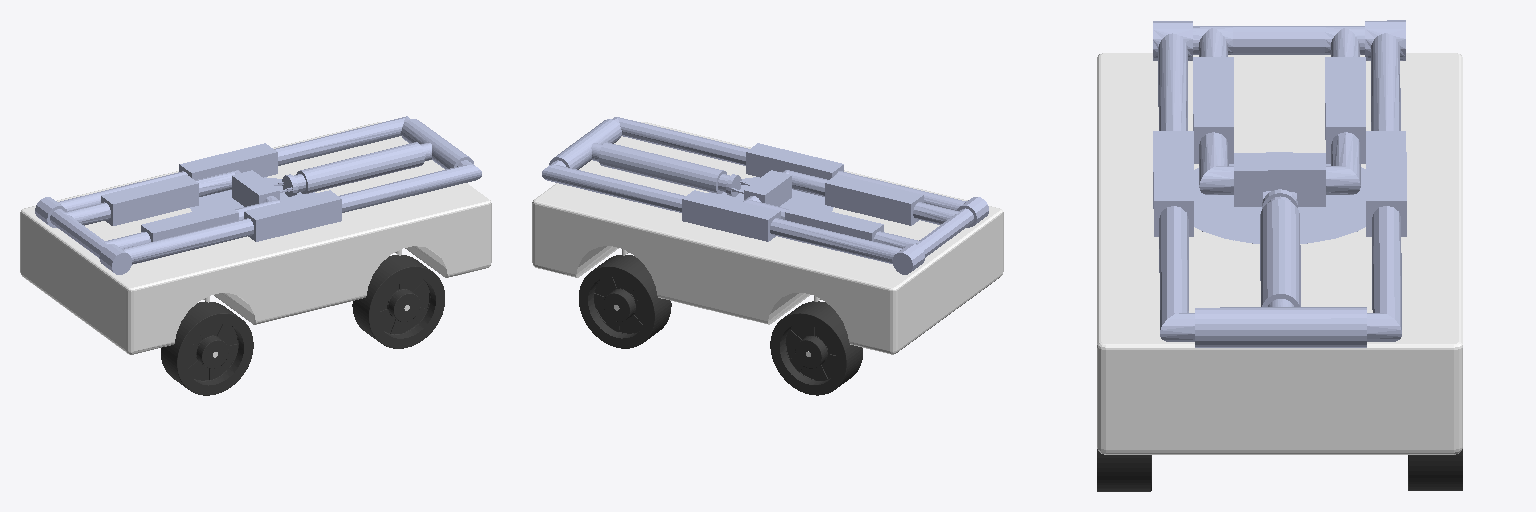
--- What the picture shows (computed from the rendered views, not written in the file) ---
3 views of the same robot in one strip: view 1: azimuth 30°, elevation 25°; view 2: azimuth 150°, elevation 25°; view 3: azimuth 270°, elevation 25° (orthographic).
Model toycar with 18 links and 17 joints (9 revolute, 4 continuous, 1 prismatic, 3 fixed), rooted at dummy_link, posed all joints at 0.
Visible links, largest first — view 1: base_link, mlr_link3, mlr_link2, BR_wheel, FR_wheel, mlr_link5, mlr_link1, mlr_link4; view 2: base_link, mlr_link3, mlr_link2, BL_wheel, FL_wheel, mlr_link5, mlr_link1, mlr_link4; view 3: base_link, mlr_link3, mlr_link2, mlr_link1, mlr_link4, mlr_link5, FR_wheel, FL_wheel.
Boxes of the visible links, x1=… form: base_link: x1=20, y1=122, x2=491, y2=354; mlr_link3: x1=35, y1=116, x2=481, y2=274; mlr_link2: x1=50, y1=170, x2=280, y2=271; BR_wheel: x1=161, y1=301, x2=253, y2=395; FR_wheel: x1=352, y1=255, x2=444, y2=348; mlr_link5: x1=296, y1=142, x2=424, y2=193; mlr_link1: x1=190, y1=170, x2=315, y2=211; mlr_link4: x1=401, y1=119, x2=473, y2=169; base_link: x1=532, y1=122, x2=1003, y2=354; mlr_link3: x1=542, y1=117, x2=988, y2=274; mlr_link2: x1=743, y1=170, x2=973, y2=271; BL_wheel: x1=770, y1=301, x2=862, y2=395; FL_wheel: x1=579, y1=255, x2=671, y2=348; mlr_link5: x1=599, y1=142, x2=726, y2=193; mlr_link1: x1=708, y1=170, x2=833, y2=211; mlr_link4: x1=549, y1=119, x2=621, y2=169; base_link: x1=1097, y1=53, x2=1462, y2=454; mlr_link3: x1=1153, y1=20, x2=1406, y2=341; mlr_link2: x1=1193, y1=26, x2=1365, y2=194; mlr_link1: x1=1194, y1=152, x2=1365, y2=243; mlr_link4: x1=1195, y1=299, x2=1366, y2=347; mlr_link5: x1=1260, y1=199, x2=1300, y2=306; FR_wheel: x1=1097, y1=449, x2=1151, y2=491; FL_wheel: x1=1408, y1=449, x2=1462, y2=490.
Bounding box of the posed robot: 0.9964 × 0.508 × 0.3746 m (x, y, z).
17 mesh visuals loaded from 17 distinct referenced files (17 binary STL).

robot.urdf — toycar:
<?xml version="1.0" encoding="utf-8"?>
<!-- This URDF was automatically created by SolidWorks to URDF Exporter! Originally created by Stephen Brawner ([email redacted]) 
     Commit Version: 1.6.0-4-g7f85cfe  Build Version: 1.6.7995.38578
     For more information, please see http://wiki.ros.org/sw_urdf_exporter -->
<robot
  name="toycar">
  <link
    name="dummy_link">
  </link>
  
  <joint
    name="dummy_joint"
    type="fixed">
    <parent
      link="dummy_link" />
    <child
      link="base_link" />
    <origin
      xyz="0 0 0"
      rpy="0 0 0" />
  </joint>
  
  <link
    name="base_link">
    <inertial>
      <origin
        xyz="-0.042877 1.1748E-08 0.29275"
        rpy="0 0 0" />
      <mass
        value="52.191" />
      <inertia
        ixx="1.4547"
        ixy="-1.4758E-06"
        ixz="0.13713"
        iyy="3.9353"
        iyz="1.4578E-08"
        izz="4.9977" />
    </inertial>
    <visual>
      <origin
        xyz="0 0 0"
        rpy="0 0 0" />
      <geometry>
        <mesh
          filename="package://toycar/meshes/base_link.STL" />
      </geometry>
      <material
        name="">
        <color
          rgba="1 1 1 1" />
      </material>
    </visual>
    <collision>
      <origin
        xyz="0 0 0"
        rpy="0 0 0" />
      <geometry>
        <mesh
          filename="package://toycar/meshes/base_link.STL" />
      </geometry>
    </collision>
  </link>
  <link
    name="FL_axle">
    <inertial>
      <origin
        xyz="-2.1389E-07 -0.033228 -0.10824"
        rpy="0 0 0" />
      <mass
        value="0.061704" />
      <inertia
        ixx="0.00028284"
        ixy="-3.6306E-10"
        ixz="-1.1782E-10"
        iyy="0.0002242"
        iyz="-4.3637E-06"
        izz="6.0365E-05" />
    </inertial>
    <visual>
      <origin
        xyz="0 0 0"
        rpy="0 0 0" />
      <geometry>
        <mesh
          filename="package://toycar/meshes/FL_axle.STL" />
      </geometry>
      <material
        name="">
        <color
          rgba="1 1 1 1" />
      </material>
    </visual>
    <collision>
      <origin
        xyz="0 0 0"
        rpy="0 0 0" />
      <geometry>
        <mesh
          filename="package://toycar/meshes/FL_axle.STL" />
      </geometry>
    </collision>
  </link>
  <joint
    name="FL_axle_chassis"
    type="revolute">
    <origin
      xyz="0.254 0.2159 0.2794"
      rpy="0 0 0" />
    <parent
      link="base_link" />
    <child
      link="FL_axle" />
    <axis
      xyz="0 0 1" />
    <limit
      lower="-0.698"
      upper="0.698"
      effort="30"
      velocity="100" />
  </joint>
  <transmission name="FL_axle_chassis_trans">
    <type>transmission_interface/SimpleTransmission</type>
    <joint name="FL_axle_chassis">
      <hardwareInterface>hardware_interface/EffortJointInterface</hardwareInterface>
    </joint>
    <actuator name="FL_axle_chassis_motor">
      <mechanicalReduction>1</mechanicalReduction>
      <hardwareInterface>hardware_interface/EffortJointInterface</hardwareInterface>
    </actuator>
  </transmission>
  <link
    name="FL_wheel">
    <inertial>
      <origin
        xyz="0 0 -0.0381"
        rpy="0 0 0" />
      <mass
        value="19.669" />
      <inertia
        ixx="0.0066187"
        ixy="-2.2273E-18"
        ixz="-7.5842E-19"
        iyy="0.0066187"
        iyz="-4.0053E-19"
        izz="0.011667" />
    </inertial>
    <visual>
      <origin
        xyz="0 0 0"
        rpy="0 0 0" />
      <geometry>
        <mesh
          filename="package://toycar/meshes/FL_wheel.STL" />
      </geometry>
      <material
        name="">
        <color
          rgba="0.29804 0.29804 0.29804 1" />
      </material>
    </visual>
    <collision>
      <origin
        xyz="0 0 0"
        rpy="0 0 0" />
      <geometry>
        <mesh
          filename="package://toycar/meshes/FL_wheel.STL" />
      </geometry>
    </collision>
  </link>
  <joint
    name="FL_wheel_axle"
    type="continuous">
    <origin
      xyz="0 0.0381 -0.1778"
      rpy="-1.5708 0 0" />
    <parent
      link="FL_axle" />
    <child
      link="FL_wheel" />
    <axis
      xyz="0 0 1" />
  </joint>
  <link
    name="FR_axle">
    <inertial>
      <origin
        xyz="2.1389E-07 0.033228 -0.10824"
        rpy="0 0 0" />
      <mass
        value="0.061704" />
      <inertia
        ixx="0.00028284"
        ixy="-3.6306E-10"
        ixz="1.1782E-10"
        iyy="0.0002242"
        iyz="4.3637E-06"
        izz="6.0365E-05" />
    </inertial>
    <visual>
      <origin
        xyz="0 0 0"
        rpy="0 0 0" />
      <geometry>
        <mesh
          filename="package://toycar/meshes/FR_axle.STL" />
      </geometry>
      <material
        name="">
        <color
          rgba="1 1 1 1" />
      </material>
    </visual>
    <collision>
      <origin
        xyz="0 0 0"
        rpy="0 0 0" />
      <geometry>
        <mesh
          filename="package://toycar/meshes/FR_axle.STL" />
      </geometry>
    </collision>
  </link>
  <joint
    name="FR_axle_chassis"
    type="revolute">
    <origin
      xyz="0.254 -0.2159 0.2794"
      rpy="0 0 0" />
    <parent
      link="base_link" />
    <child
      link="FR_axle" />
    <axis
      xyz="0 0 1" />
    <limit
      lower="-0.698"
      upper="0.698"
      effort="30"
      velocity="100" />
  </joint>
  <transmission name="FR_axle_chassis_trans">
    <type>transmission_interface/SimpleTransmission</type>
    <joint name="FR_axle_chassis">
      <hardwareInterface>hardware_interface/EffortJointInterface</hardwareInterface>
    </joint>
    <actuator name="FR_axle_chassis_motor">
      <mechanicalReduction>1</mechanicalReduction>
      <hardwareInterface>hardware_interface/EffortJointInterface</hardwareInterface>
    </actuator>
  </transmission>
  <link
    name="FR_wheel">
    <inertial>
      <origin
        xyz="0 -1.3878E-17 0.0381"
        rpy="0 0 0" />
      <mass
        value="19.669" />
      <inertia
        ixx="0.0066187"
        ixy="1.0816E-18"
        ixz="-4.9837E-19"
        iyy="0.0066187"
        iyz="-4.0009E-19"
        izz="0.011667" />
    </inertial>
    <visual>
      <origin
        xyz="0 0 0"
        rpy="0 0 0" />
      <geometry>
        <mesh
          filename="package://toycar/meshes/FR_wheel.STL" />
      </geometry>
      <material
        name="">
        <color
          rgba="0.29804 0.29804 0.29804 1" />
      </material>
    </visual>
    <collision>
      <origin
        xyz="0 0 0"
        rpy="0 0 0" />
      <geometry>
        <mesh
          filename="package://toycar/meshes/FR_wheel.STL" />
      </geometry>
    </collision>
  </link>
  <joint
    name="FR_wheel_axle"
    type="continuous">
    <origin
      xyz="0 -0.0381 -0.1778"
      rpy="-1.5708 0 0" />
    <parent
      link="FR_axle" />
    <child
      link="FR_wheel" />
    <axis
      xyz="0 0 1" />
  </joint>
  <link
    name="BR_axle">
    <inertial>
      <origin
        xyz="2.1389E-07 0.033228 -0.10824"
        rpy="0 0 0" />
      <mass
        value="0.061704" />
      <inertia
        ixx="0.00028284"
        ixy="-3.6306E-10"
        ixz="1.1782E-10"
        iyy="0.0002242"
        iyz="4.3637E-06"
        izz="6.0365E-05" />
    </inertial>
    <visual>
      <origin
        xyz="0 0 0"
        rpy="0 0 0" />
      <geometry>
        <mesh
          filename="package://toycar/meshes/BR_axle.STL" />
      </geometry>
      <material
        name="">
        <color
          rgba="1 1 1 1" />
      </material>
    </visual>
    <collision>
      <origin
        xyz="0 0 0"
        rpy="0 0 0" />
      <geometry>
        <mesh
          filename="package://toycar/meshes/BR_axle.STL" />
      </geometry>
    </collision>
  </link>
  <joint
    name="BR_axle_chassis"
    type="fixed">
    <origin
      xyz="-0.254 -0.2159 0.2794"
      rpy="0 0 0" />
    <parent
      link="base_link" />
    <child
      link="BR_axle" />
    <axis
      xyz="0 0 0" />
  </joint>
  <link
    name="BR_wheel">
    <inertial>
      <origin
        xyz="0 -1.3878E-17 0.0381"
        rpy="0 0 0" />
      <mass
        value="19.669" />
      <inertia
        ixx="0.0066187"
        ixy="-4.6602E-19"
        ixz="-3.6188E-20"
        iyy="0.0066187"
        iyz="-2.4546E-20"
        izz="0.011667" />
    </inertial>
    <visual>
      <origin
        xyz="0 0 0"
        rpy="0 0 0" />
      <geometry>
        <mesh
          filename="package://toycar/meshes/BR_wheel.STL" />
      </geometry>
      <material
        name="">
        <color
          rgba="0.29804 0.29804 0.29804 1" />
      </material>
    </visual>
    <collision>
      <origin
        xyz="0 0 0"
        rpy="0 0 0" />
      <geometry>
        <mesh
          filename="package://toycar/meshes/BR_wheel.STL" />
      </geometry>
    </collision>
  </link>
  <joint
    name="BR_wheel_axle"
    type="continuous">
    <origin
      xyz="0 -0.0381 -0.1778"
      rpy="-1.5708 0 0" />
    <parent
      link="BR_axle" />
    <child
      link="BR_wheel" />
    <axis
      xyz="0 0 1" />
  </joint>
  <transmission name="BR_wheel_axle_trans">
    <type>transmission_interface/SimpleTransmission</type>
    <joint name="BR_wheel_axle">
      <hardwareInterface>hardware_interface/VelocityJointInterface</hardwareInterface>
    </joint>
    <actuator name="BR_wheel_axle_motor">
      <mechanicalReduction>1</mechanicalReduction>
    </actuator>
  </transmission>
  <link
    name="BL_axle">
    <inertial>
      <origin
        xyz="-2.1389E-07 -0.033228 -0.10824"
        rpy="0 0 0" />
      <mass
        value="0.061704" />
      <inertia
        ixx="0.00028284"
        ixy="-3.6306E-10"
        ixz="-1.1782E-10"
        iyy="0.0002242"
        iyz="-4.3637E-06"
        izz="6.0365E-05" />
    </inertial>
    <visual>
      <origin
        xyz="0 0 0"
        rpy="0 0 0" />
      <geometry>
        <mesh
          filename="package://toycar/meshes/BL_axle.STL" />
      </geometry>
      <material
        name="">
        <color
          rgba="1 1 1 1" />
      </material>
    </visual>
    <collision>
      <origin
        xyz="0 0 0"
        rpy="0 0 0" />
      <geometry>
        <mesh
          filename="package://toycar/meshes/BL_axle.STL" />
      </geometry>
    </collision>
  </link>
  <joint
    name="BL_axle_chassis"
    type="fixed">
    <origin
      xyz="-0.254 0.2159 0.2794"
      rpy="0 0 0" />
    <parent
      link="base_link" />
    <child
      link="BL_axle" />
    <axis
      xyz="0 0 0" />
  </joint>
  <link
    name="BL_wheel">
    <inertial>
      <origin
        xyz="5.5511E-17 1.3878E-17 -0.0381"
        rpy="0 0 0" />
      <mass
        value="19.669" />
      <inertia
        ixx="0.0066187"
        ixy="4.4054E-19"
        ixz="-1.3271E-18"
        iyy="0.0066187"
        iyz="-6.6236E-19"
        izz="0.011667" />
    </inertial>
    <visual>
      <origin
        xyz="0 0 0"
        rpy="0 0 0" />
      <geometry>
        <mesh
          filename="package://toycar/meshes/BL_wheel.STL" />
      </geometry>
      <material
        name="">
        <color
          rgba="0.29804 0.29804 0.29804 1" />
      </material>
    </visual>
    <collision>
      <origin
        xyz="0 0 0"
        rpy="0 0 0" />
      <geometry>
        <mesh
          filename="package://toycar/meshes/BL_wheel.STL" />
      </geometry>
    </collision>
  </link>
  <joint
    name="BL_wheel_axle"
    type="continuous">
    <origin
      xyz="0 0.0381 -0.1778"
      rpy="-1.5708 0 0" />
    <parent
      link="BL_axle" />
    <child
      link="BL_wheel" />
    <axis
      xyz="0 0 1" />
  </joint>
  <transmission name="BL_wheel_axle_trans">
    <type>transmission_interface/SimpleTransmission</type>
    <joint name="BL_wheel_axle">
      <hardwareInterface>hardware_interface/VelocityJointInterface</hardwareInterface>
    </joint>
    <actuator name="BL_wheel_axle_motor">
      <mechanicalReduction>1</mechanicalReduction>
    </actuator>
  </transmission>
  <link
    name="mlr_link1">
    <inertial>
      <origin
        xyz="-3.4833E-15 -5.1625E-15 0.066013"
        rpy="0 0 0" />
      <mass
        value="0.021881" />
      <inertia
        ixx="0.011816"
        ixy="-1.1858E-20"
        ixz="-2.873E-19"
        iyy="0.011591"
        iyz="-2.3152E-19"
        izz="0.021954" />
    </inertial>
    <visual>
      <origin
        xyz="0 0 0"
        rpy="0 0 0" />
      <geometry>
        <mesh
          filename="package://transformer/meshes/mlr_link1.STL" />
      </geometry>
      <material
        name="">
        <color
          rgba="0.79216 0.81961 0.93333 1" />
      </material>
    </visual>
    <collision>
      <origin
        xyz="0 0 0"
        rpy="0 0 0" />
      <geometry>
        <mesh
          filename="package://transformer/meshes/mlr_link1.STL" />
      </geometry>
    </collision>
  </link>
  <joint
    name="link1_chassis"
    type="revolute">
    <origin
      xyz="0 0 0.24252"
      rpy="0 0 0.0025505" />
    <parent
      link="base_link" />
    <child
      link="mlr_link1" />
    <axis
      xyz="0 0 -1" />
    <limit
      lower="0"
      upper="6.283"
      effort="30"
      velocity="100" />
  </joint>
  <transmission name="link1_chassis_trans">
    <type>transmission_interface/SimpleTransmission</type>
    <joint name="link1_chassis">
      <hardwareInterface>hardware_interface/EffortJointInterface</hardwareInterface>
    </joint>
    <actuator name="link1_chassis_motor">
      <mechanicalReduction>1</mechanicalReduction>
      <hardwareInterface>hardware_interface/EffortJointInterface</hardwareInterface>
    </actuator>
  </transmission>
  <link
    name="mlr_link2">
    <inertial>
      <origin
        xyz="0.24339 -9.8435E-08 2.7091E-06"
        rpy="0 0 0" />
      <mass
        value="0.226679" />
      <inertia
        ixx="0.022841"
        ixy="8.6807E-08"
        ixz="1.271E-06"
        iyy="0.080308"
        iyz="2.3327E-08"
        izz="0.058468" />
    </inertial>
    <visual>
      <origin
        xyz="0 0 0"
        rpy="0 0 0" />
      <geometry>
        <mesh
          filename="package://transformer/meshes/mlr_link2.STL" />
      </geometry>
      <material
        name="">
        <color
          rgba="0.79216 0.81961 0.93333 1" />
      </material>
    </visual>
    <collision>
      <origin
        xyz="0 0 0"
        rpy="0 0 0" />
      <geometry>
        <mesh
          filename="package://transformer/meshes/mlr_link2.STL" />
      </geometry>
    </collision>
  </link>
  <joint
    name="link2_link1"
    type="revolute">
    <origin
      xyz="0 0 0.10414"
      rpy="1.5708 0 3.1416" />
    <parent
      link="mlr_link1" />
    <child
      link="mlr_link2" />
    <axis
      xyz="0 0 1" />
    <limit
      lower="0"
      upper="3.14"
      effort="300"
      velocity="100" />
  </joint>
  <transmission name="link2_link1_trans">
    <type>transmission_interface/SimpleTransmission</type>
    <joint name="link2_link1">
      <hardwareInterface>hardware_interface/EffortJointInterface</hardwareInterface>
    </joint>
    <actuator name="link2_link1_motor">
      <mechanicalReduction>1</mechanicalReduction>
      <hardwareInterface>hardware_interface/EffortJointInterface</hardwareInterface>
    </actuator>
  </transmission>
  <link
    name="mlr_link3">
    <inertial>
      <origin
        xyz="0.50997 0.0031101 -7.5244E-06"
        rpy="0 0 0" />
      <mass
        value="0.03717" />
      <inertia
        ixx="0.076483"
        ixy="8.4905E-08"
        ixz="9.2587E-06"
        iyy="0.35221"
        iyz="8.051E-09"
        izz="0.27699" />
    </inertial>
    <visual>
      <origin
        xyz="0 0 0"
        rpy="0 0 0" />
      <geometry>
        <mesh
          filename="package://transformer/meshes/mlr_link3.STL" />
      </geometry>
      <material
        name="">
        <color
          rgba="0.79216 0.81961 0.93333 1" />
      </material>
    </visual>
    <collision>
      <origin
        xyz="0 0 0"
        rpy="0 0 0" />
      <geometry>
        <mesh
          filename="package://transformer/meshes/mlr_link3.STL" />
      </geometry>
    </collision>
  </link>
  <joint
    name="link3_link2"
    type="revolute">
    <origin
      xyz="0.45688 -0.0031098 0"
      rpy="-3.1416 0 3.1416" />
    <parent
      link="mlr_link2" />
    <child
      link="mlr_link3" />
    <axis
      xyz="0 0 1" />
    <limit
      lower="0"
      upper="6.283"
      effort="300"
      velocity="100" />
  </joint>
  <transmission name="link3_link2_trans">
    <type>transmission_interface/SimpleTransmission</type>
    <joint name="link3_link2">
      <hardwareInterface>hardware_interface/EffortJointInterface</hardwareInterface>
    </joint>
    <actuator name="link3_link2_motor">
      <mechanicalReduction>1</mechanicalReduction>
      <hardwareInterface>hardware_interface/EffortJointInterface</hardwareInterface>
    </actuator>
  </transmission>
  <link
    name="mlr_link4">
    <inertial>
      <origin
        xyz="0.016727 6.741E-08 1.784E-08"
        rpy="0 0 0" />
      <mass
        value="0.037398" />
      <inertia
        ixx="0.0014131"
        ixy="-5.5962E-10"
        ixz="1.0584E-10"
        iyy="0.0017439"
        iyz="1.0599E-09"
        izz="0.00051617" />
    </inertial>
    <visual>
      <origin
        xyz="0 0 0"
        rpy="0 0 0" />
      <geometry>
        <mesh
          filename="package://transformer/meshes/mlr_link4.STL" />
      </geometry>
      <material
        name="">
        <color
          rgba="0.79216 0.81961 0.93333 1" />
      </material>
    </visual>
    <collision>
      <origin
        xyz="0 0 0"
        rpy="0 0 0" />
      <geometry>
        <mesh
          filename="package://transformer/meshes/mlr_link4.STL" />
      </geometry>
    </collision>
  </link>
  <joint
    name="link4_link3"
    type="revolute">
    <origin
      xyz="0.93948 0.0031098 0"
      rpy="-3.1416 0 3.1416" />
    <parent
      link="mlr_link3" />
    <child
      link="mlr_link4" />
    <axis
      xyz="0 0 1" />
    <limit
      lower="0"
      upper="6.283"
      effort="100"
      velocity="100" />
  </joint>
  <transmission name="link4_link3_trans">
    <type>transmission_interface/SimpleTransmission</type>
    <joint name="link4_link3">
      <hardwareInterface>hardware_interface/EffortJointInterface</hardwareInterface>
    </joint>
    <actuator name="link4_link3_motor">
      <mechanicalReduction>1</mechanicalReduction>
      <hardwareInterface>hardware_interface/EffortJointInterface</hardwareInterface>
    </actuator>
  </transmission>
  <link
    name="mlr_link5">
    <inertial>
      <origin
        xyz="-1.0445E-05 -0.00012914 0.2039"
        rpy="0 0 0" />
      <mass
        value="0.036459" />
      <inertia
        ixx="0.0030391"
        ixy="-2.7105E-20"
        ixz="-2.5269E-19"
        iyy="0.0030391"
        iyz="3.7635E-19"
        izz="0.00021501" />
    </inertial>
    <visual>
      <origin
        xyz="0 0 0"
        rpy="0 0 0" />
      <geometry>
        <mesh
          filename="package://transformer/meshes/mlr_link5.STL" />
      </geometry>
      <material
        name="">
        <color
          rgba="0.79216 0.81961 0.93333 1" />
      </material>
    </visual>
    <collision>
      <origin
        xyz="0 0 0"
        rpy="0 0 0" />
      <geometry>
        <mesh
          filename="package://transformer/meshes/mlr_link5.STL" />
      </geometry>
    </collision>
  </link>
  <joint
    name="link5_link4"
    type="revolute">
    <origin
      xyz="0 0 0.00012957"
      rpy="1.5708 -0.080704 1.5708" />
    <parent
      link="mlr_link4" />
    <child
      link="mlr_link5" />
    <axis
      xyz="0 0 1" />
    <limit
      lower="0"
      upper="6.283"
      effort="30"
      velocity="100" />
  </joint>
  <transmission name="link5_link4_trans">
    <type>transmission_interface/SimpleTransmission</type>
    <joint name="link5_link4">
      <hardwareInterface>hardware_interface/EffortJointInterface</hardwareInterface>
    </joint>
    <actuator name="link5_link4_motor">
      <mechanicalReduction>1</mechanicalReduction>
      <hardwareInterface>hardware_interface/EffortJointInterface</hardwareInterface>
    </actuator>
  </transmission>
  <link
    name="mlr_link6">
    <inertial>
      <origin
        xyz="2.2204E-16 2.9143E-16 0.15461"
        rpy="0 0 0" />
      <mass
        value="0.038855" />
      <inertia
        ixx="0.002921"
        ixy="1.2038E-08"
        ixz="6.3631E-19"
        iyy="0.0029208"
        iyz="-3.5832E-19"
        izz="8.329E-05" />
    </inertial>
    <visual>
      <origin
        xyz="0 0 0"
        rpy="0 0 0" />
      <geometry>
        <mesh
          filename="package://transformer/meshes/mlr_link6.STL" />
      </geometry>
      <material
        name="">
        <color
          rgba="0.79216 0.81961 0.93333 1" />
      </material>
    </visual>
    <collision>
      <origin
        xyz="0 0 0"
        rpy="0 0 0" />
      <geometry>
        <mesh
          filename="package://transformer/meshes/mlr_link6.STL" />
      </geometry>
    </collision>
  </link>
  <joint
    name="link6_link5"
    type="prismatic">
    <origin
      xyz="-1.0445E-05 -0.00012914 0.1016"
      rpy="0 0 3.0214" />
    <parent
      link="mlr_link5" />
    <child
      link="mlr_link6" />
    <axis
      xyz="0 0 1" />
    <limit
      lower="0"
      upper="0.254"
      effort="30"
      velocity="100" />
  </joint>
  <transmission name="link6_link5_trans">
    <type>transmission_interface/SimpleTransmission</type>
    <joint name="link6_link5">
      <hardwareInterface>hardware_interface/EffortJointInterface</hardwareInterface>
    </joint>
    <actuator name="link6_link5_motor">
      <mechanicalReduction>1</mechanicalReduction>
      <hardwareInterface>hardware_interface/EffortJointInterface</hardwareInterface>
    </actuator>
  </transmission>
  <link
    name="finger1">
    <inertial>
      <origin
        xyz="0.0032305 -0.019321 0.0002415"
        rpy="0 0 0" />
      <mass
        value="0.0012184" />
      <inertia
        ixx="2.1571E-07"
        ixy="5.6309E-08"
        ixz="-1.6294E-09"
        iyy="4.6481E-08"
        iyz="2.0983E-09"
        izz="2.5937E-07" />
    </inertial>
    <visual>
      <origin
        xyz="0 0 0"
        rpy="0 0 0" />
      <geometry>
        <mesh
          filename="package://transformer/meshes/finger1.STL" />
      </geometry>
      <material
        name="">
        <color
          rgba="0.79216 0.81961 0.93333 1" />
      </material>
    </visual>
    <collision>
      <origin
        xyz="0 0 0"
        rpy="0 0 0" />
      <geometry>
        <mesh
          filename="package://transformer/meshes/finger1.STL" />
      </geometry>
    </collision>
  </link>
  <joint
    name="finger1_link6"
    type="revolute">
    <origin
      xyz="-0.0016676 0.020119 0.30352"
      rpy="-1.5708 0 -1.5313" />
    <parent
      link="mlr_link6" />
    <child
      link="finger1" />
    <axis
      xyz="0 0 -1" />
    <limit
      lower="0"
      upper="1.57"
      effort="30"
      velocity="100" />
  </joint>
  <transmission name="finger1_link6_trans">
    <type>transmission_interface/SimpleTransmission</type>
    <joint name="finger1_link6">
      <hardwareInterface>hardware_interface/EffortJointInterface</hardwareInterface>
    </joint>
    <actuator name="finger1_link6_motor">
      <mechanicalReduction>1</mechanicalReduction>
      <hardwareInterface>hardware_interface/EffortJointInterface</hardwareInterface>
    </actuator>
  </transmission>
  <link
    name="finger2">
    <inertial>
      <origin
        xyz="0.003506 -0.019305 0.00011543"
        rpy="0 0 0" />
      <mass
        value="0.0012184" />
      <inertia
        ixx="2.1565E-07"
        ixy="5.6348E-08"
        ixz="1.4889E-23"
        iyy="4.6481E-08"
        iyz="-5.8525E-23"
        izz="2.5943E-07" />
    </inertial>
    <visual>
      <origin
        xyz="0 0 0"
        rpy="0 0 0" />
      <geometry>
        <mesh
          filename="package://transformer/meshes/finger2.STL" />
      </geometry>
      <material
        name="">
        <color
          rgba="0.79216 0.81961 0.93333 1" />
      </material>
    </visual>
    <collision>
      <origin
        xyz="0 0 0"
        rpy="0 0 0" />
      <geometry>
        <mesh
          filename="package://transformer/meshes/finger2.STL" />
      </geometry>
    </collision>
  </link>
  <joint
    name="finger2_link6"
    type="revolute">
    <origin
      xyz="0.0016826 -0.020388 0.30354"
      rpy="-1.5708 0 1.6475" />
    <parent
      link="mlr_link6" />
    <child
      link="finger2" />
    <axis
      xyz="0 0 -1" />
    <limit
      lower="0"
      upper="1.57"
      effort="30"
      velocity="100" />
  </joint>
  <transmission name="finger2_link6_trans">
    <type>transmission_interface/SimpleTransmission</type>
    <joint name="finger2_link6">
      <hardwareInterface>hardware_interface/EffortJointInterface</hardwareInterface>
    </joint>
    <actuator name="finger2_link6_motor">
      <mechanicalReduction>1</mechanicalReduction>
      <hardwareInterface>hardware_interface/EffortJointInterface</hardwareInterface>
    </actuator>
  </transmission>
</robot>
